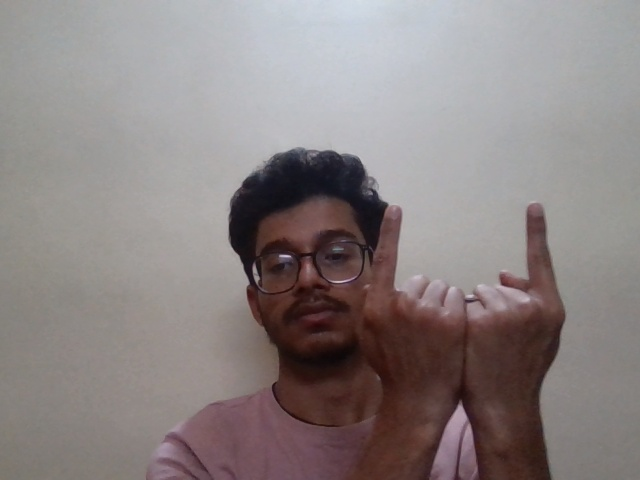when: (355, 191, 572, 417)
